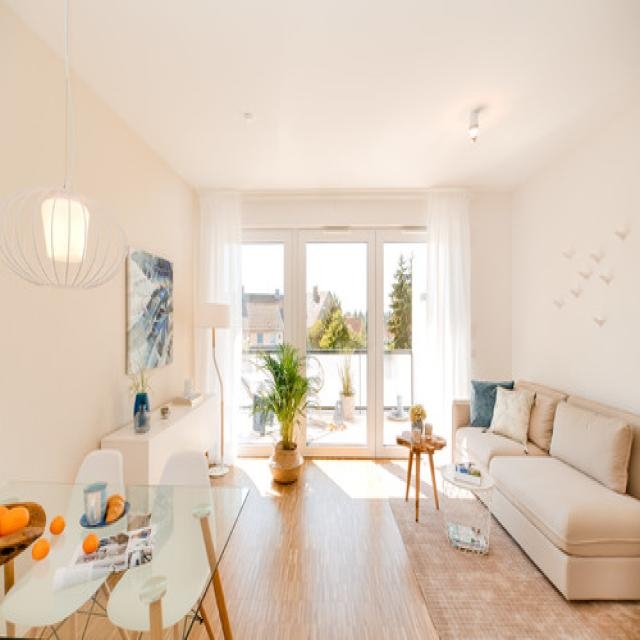natural chair: (3, 445, 128, 640), (113, 448, 217, 640)
natural sofa: (452, 375, 640, 601)
